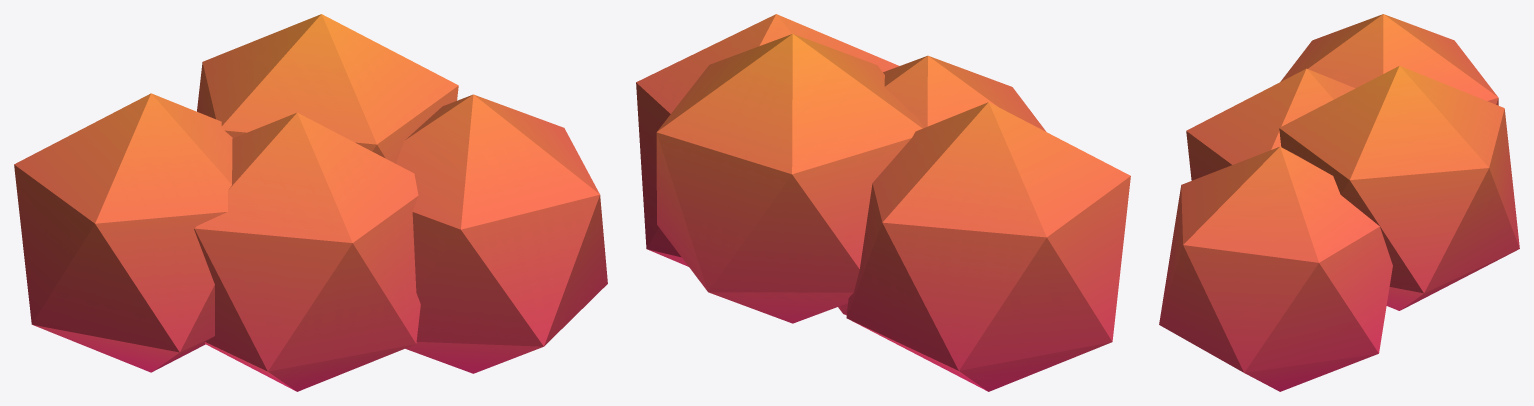
File: Bush.fbx
3 views of the same model, side by side, from view 1: azimuth 30°, elevation 25°; view 2: azimuth 150°, elevation 25°; view 3: azimuth 270°, elevation 25° (orthographic). The views are drawn at different scales.
Visible parts, largest first — view 1: Icosphere.036; view 2: Icosphere.036; view 3: Icosphere.036.
Part boxes in pixels (<box>): Icosphere.036: <box>14,14,607,391</box>; Icosphere.036: <box>636,14,1130,391</box>; Icosphere.036: <box>1159,14,1519,391</box>.
Size of the model in its own units: 1003 by 638 by 718.
